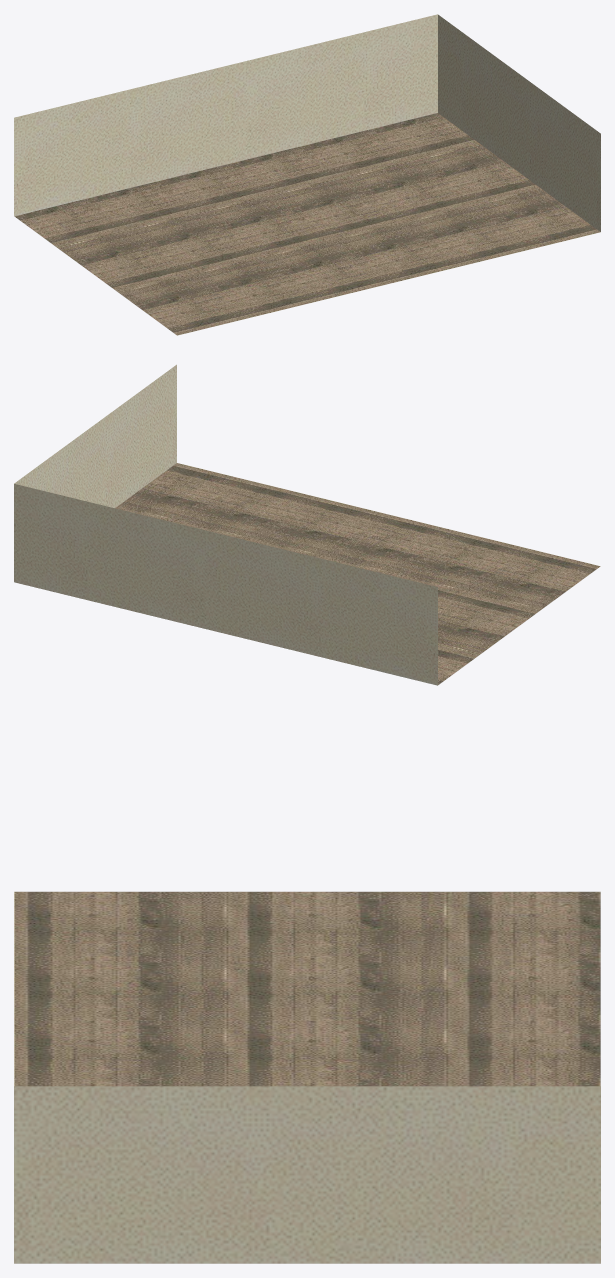
Rendered from EntranceRoom.glb.
3 renders of one model, top to bottom at view 1: azimuth 30°, elevation 25°; view 2: azimuth 150°, elevation 25°; view 3: azimuth 270°, elevation 25°, orthographic. The views are drawn at different scales.
Visible parts, largest first — view 1: Cube; view 2: Cube; view 3: Cube.
Part boxes in pixels (x1,y1,x2,y2): Cube: [14, 14, 600, 335]; Cube: [14, 364, 600, 685]; Cube: [14, 891, 600, 1263].
Size of the model in its own units: 9 by 2 by 6.
Materials: 1 (1 with a texture image).
